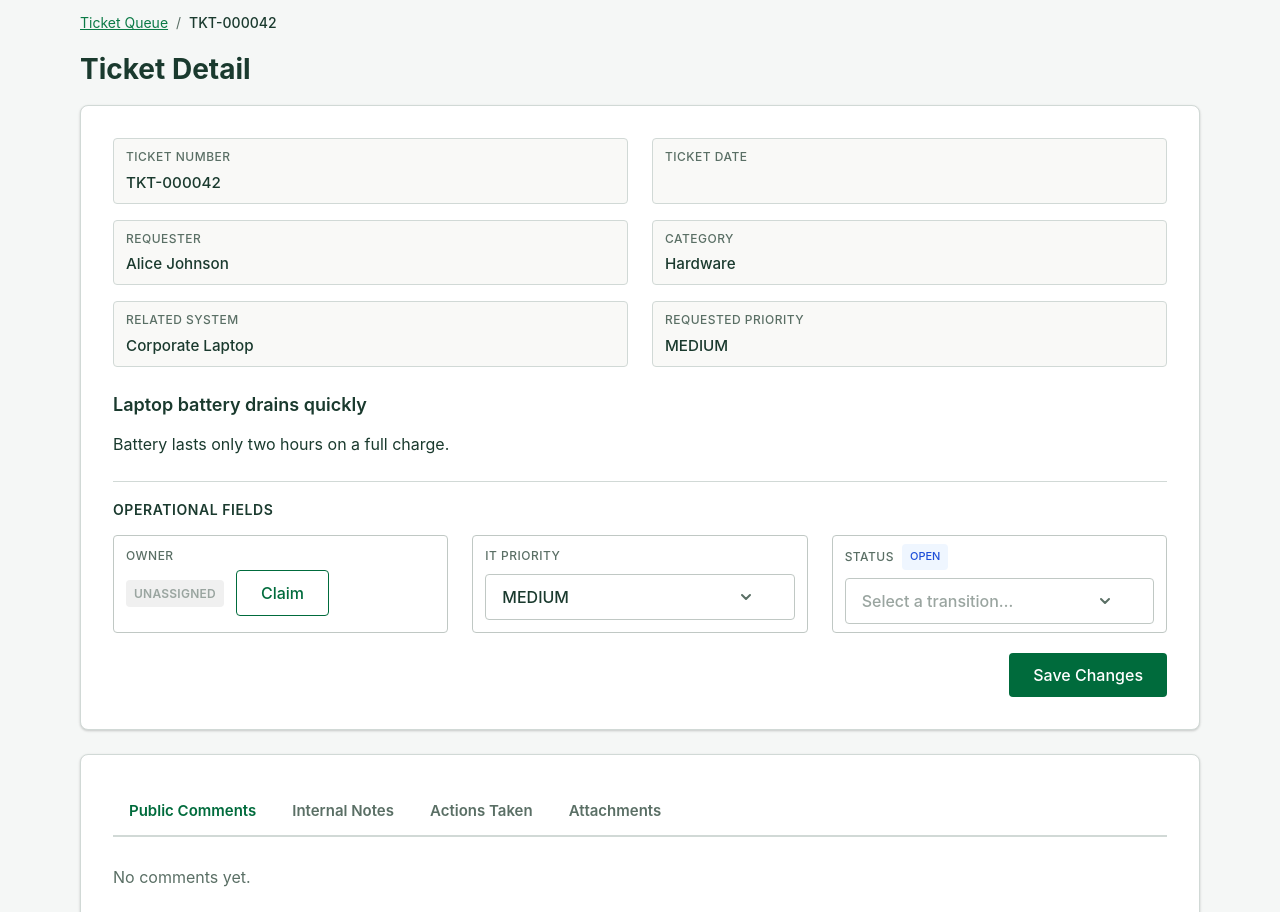
Test: StaffTicketDetail (UI-07) › saves the IT Priority via PATCH and shows the success banner
Check: the element with test id "operational-panel" is shown, box [113,481,1167,697]
Click the button with test id "it-priority-select" at [536, 597], box [485,574,795,620]
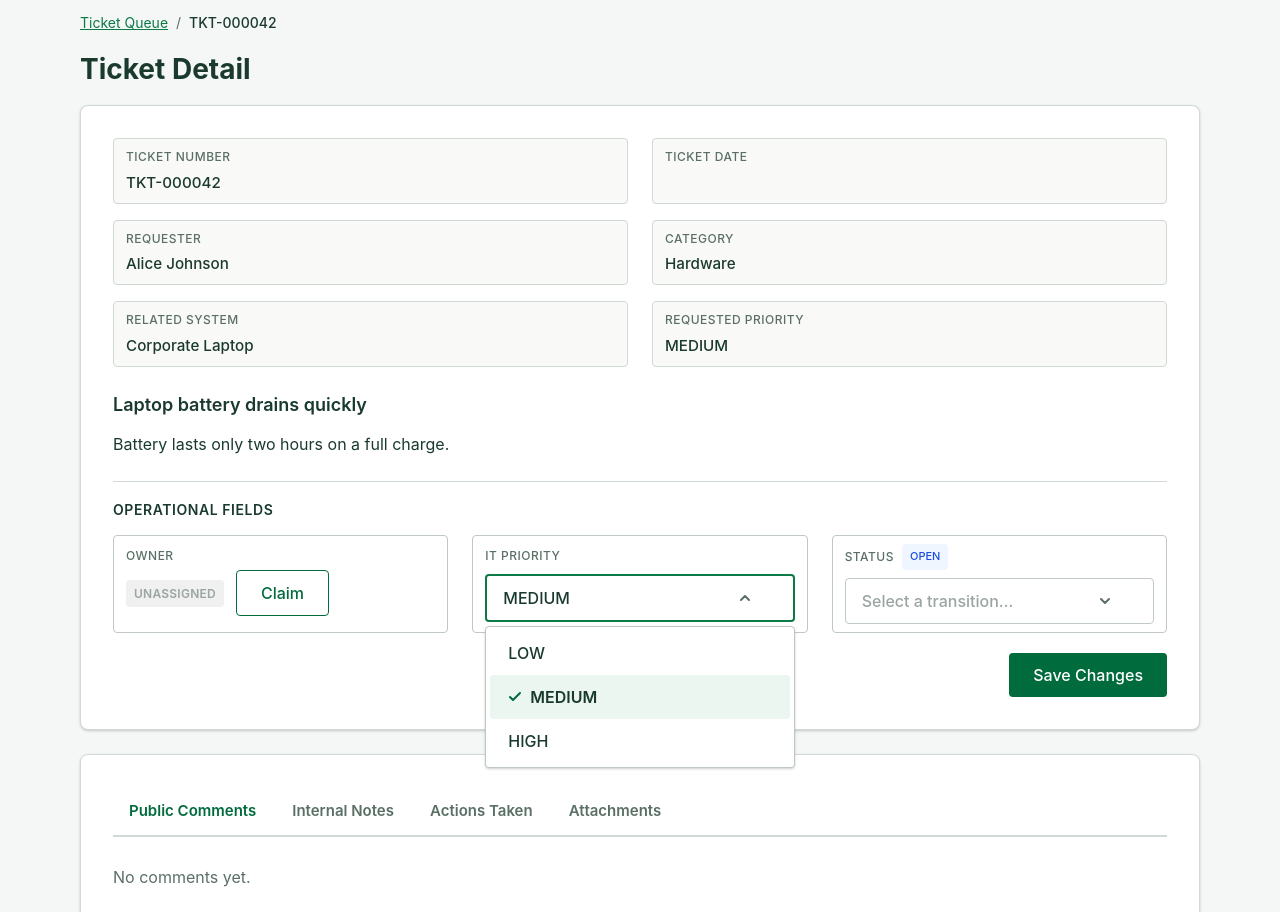
Click the button "HIGH" at [528, 741], box [490,719,790,763]
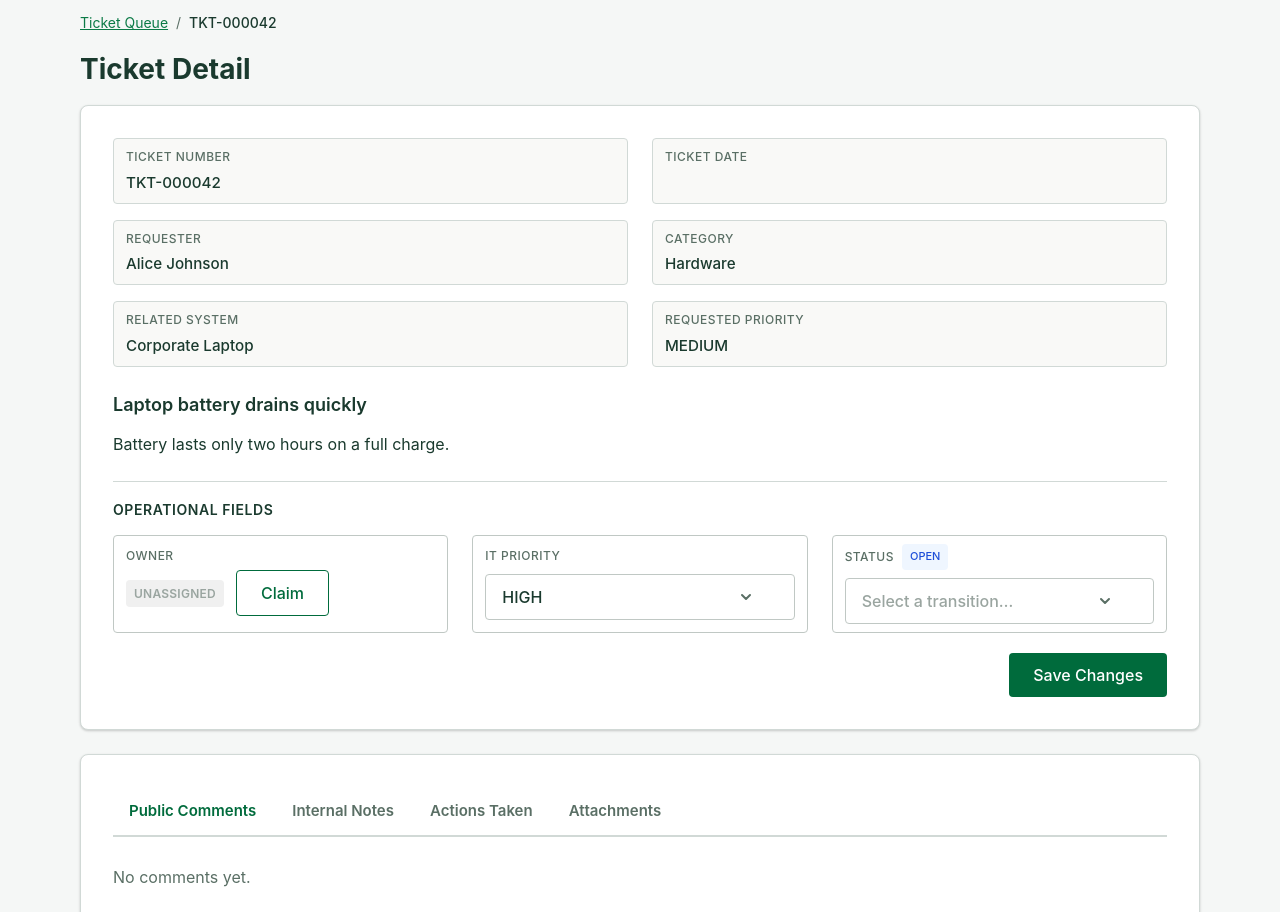
Click the button with test id "save-ticket-btn" at [1088, 675], box [1009,653,1167,697]
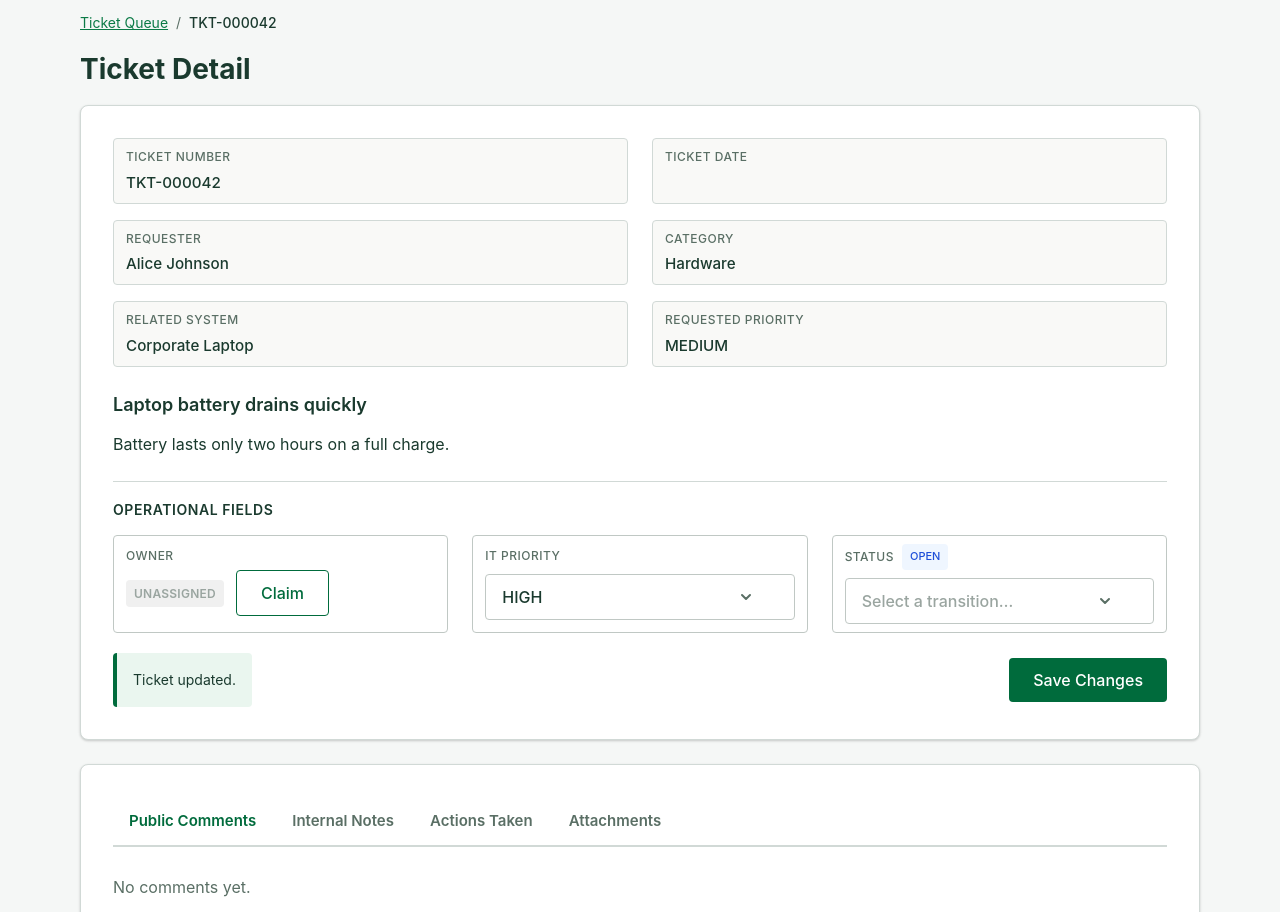
Check: the message with test id "save-success" reads "Ticket updated.", box [133,671,236,688]
